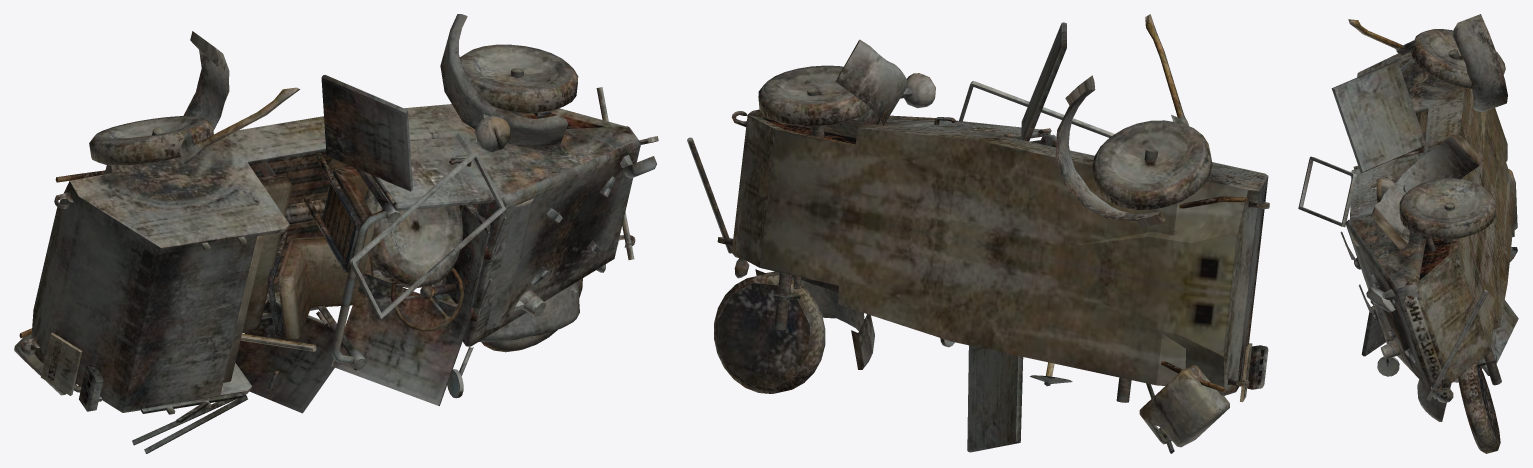
Rendered from vehicle_german_kubel_normandy_d.glb.
The picture shows the model from 3 angles, left to right: view 1: azimuth 30°, elevation 25°; view 2: azimuth 150°, elevation 25°; view 3: azimuth 270°, elevation 25°; orthographic projection. The views are drawn at different scales.
Bounding box in the file's own units: 153 × 104 × 64.73.
Materials: 1 (1 with a texture image).
